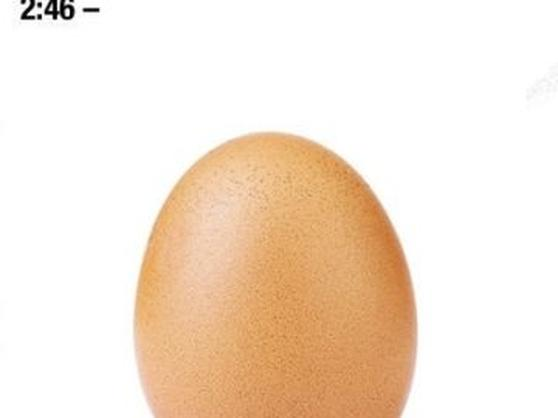egg: (130, 128, 424, 410)
